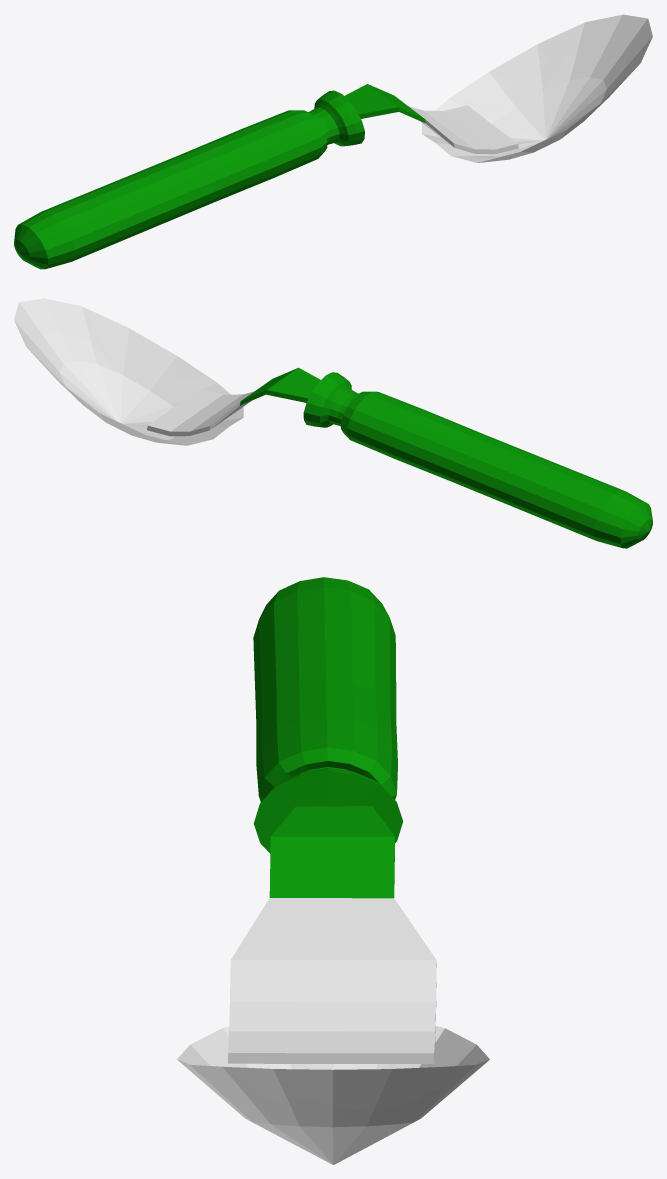
File: spoon1.dae
The picture shows the model from 3 angles, top to bottom: view 1: azimuth 30°, elevation 25°; view 2: azimuth 150°, elevation 25°; view 3: azimuth 270°, elevation 25°; orthographic projection. The views are drawn at different scales.
Visible parts, largest first — view 1: spoon1; view 2: spoon1; view 3: spoon1.
Boxes of the visible parts, x1,y1,x2,y2 form: spoon1: [14, 14, 652, 269]; spoon1: [14, 298, 652, 548]; spoon1: [177, 577, 489, 1164].
Bounding box in the file's own units: 0.1845 × 0.0399 × 0.0274.
2 materials, 1 textured.
